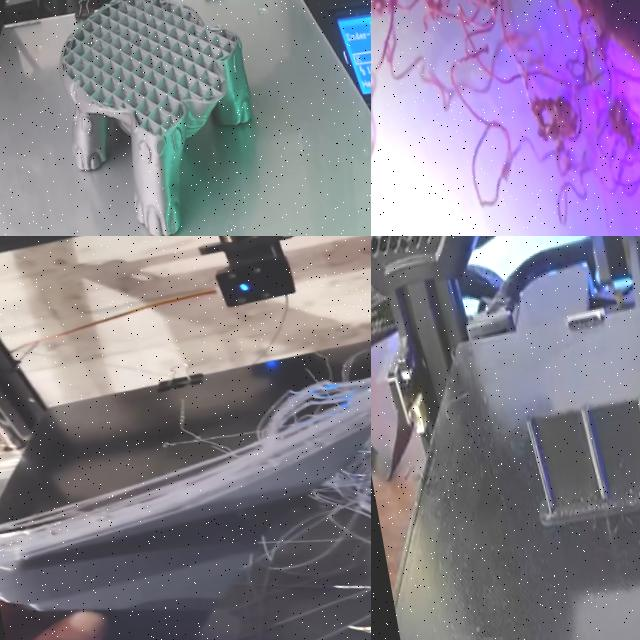spaghetti: (371, 0, 640, 236), (242, 324, 371, 543)
